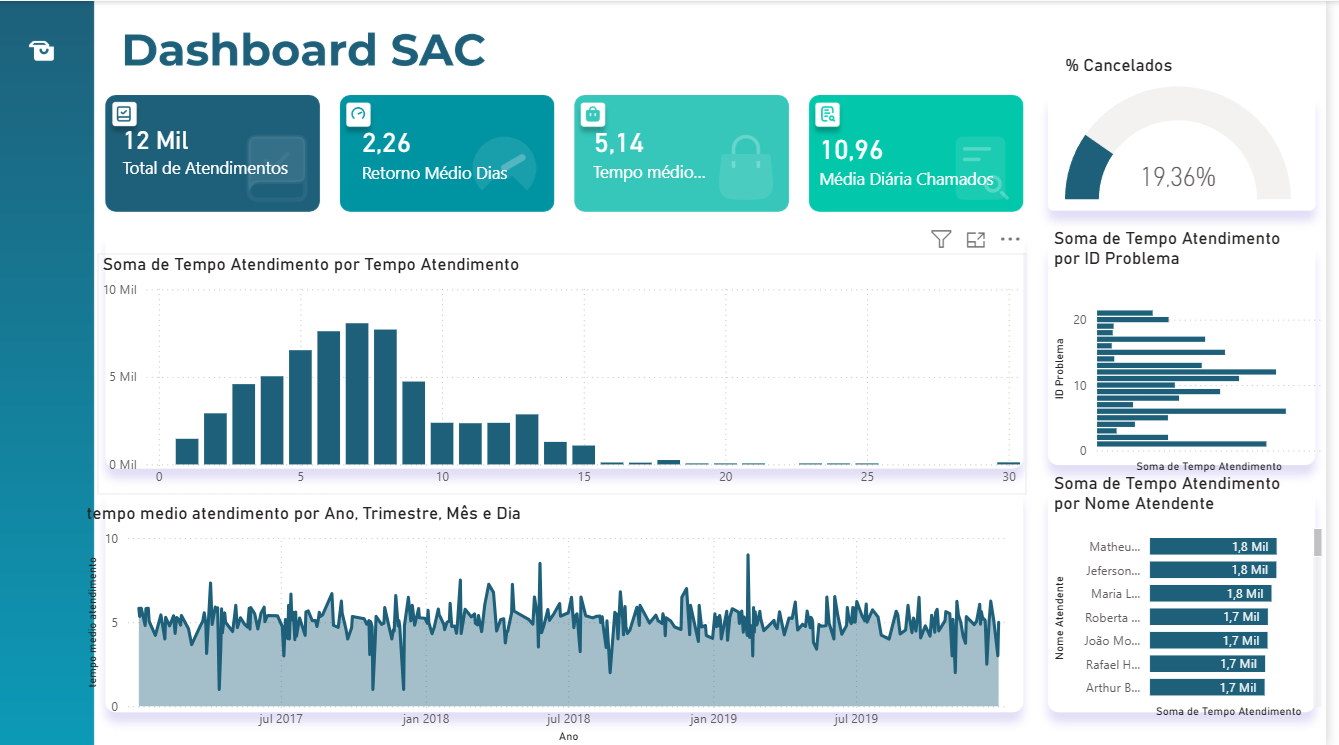

What the dashboard file says about the page in this screenshot:
{"tool":"powerbi","page":{"name":"Página 1","canvas":[1280,720],"ordinal":0},"visuals":[{"type":"cardVisual","fields":{"Data":["fOcorrencias.Total de Atendimentos"]},"box":[89.6,52.4,259.1,188.8],"z":0},{"type":"cardVisual","fields":{"Data":["fOcorrencias.Tempo Médio de Retorno (Dias)"]},"box":[310.1,34.5,318.3,227.4],"z":1000},{"type":"cardVisual","fields":{"Data":["fOcorrencias.Tempo médio Atendimento (Min)"]},"box":[533.3,78.6,246.7,139.2],"z":2000},{"type":"cardVisual","fields":{"Data":["fOcorrencias.Média Diária Chamados"]},"box":[751.1,68.9,315.6,172.3],"z":3000},{"type":"gauge","fields":{"Y":["fOcorrencias.% Cancelados"]},"box":[1023.1,51.9,228,149.6],"z":4000},{"type":"columnChart","fields":{"Y":["Sum(fOcorrencias.Tempo Atendimento)"],"Category":["fOcorrencias.Tempo Atendimento"]},"box":[94.1,243.2,895.9,233.8],"z":5000},{"type":"areaChart","fields":{"Y":["fOcorrencias.tempo medio atendimento"],"Category":["dUsuario.Data de inscrição.Variation.Hierarquia de datas.Ano","dUsuario.Data de inscrição.Variation.Hierarquia de datas.Trimestre","dUsuario.Data de inscrição.Variation.Hierarquia de datas.Mês","dUsuario.Data de inscrição.Variation.Hierarquia de datas.Dia"]},"box":[78.5,483.3,911.6,236.9],"z":6000},{"type":"barChart","fields":{"Y":["Sum(fOcorrencias.Tempo Atendimento)"],"Category":["fOcorrencias.ID Problema"]},"box":[1012,218.1,268.3,241.6],"z":7000},{"type":"barChart","fields":{"Y":["Sum(fOcorrencias.Tempo Atendimento)"],"Category":["dSuporte.Nome Atendente"]},"box":[1012,455,268.3,241.6],"z":8000}]}

Visuals, with their boxes in screenshot pixels (x1, y1, x2, y2), scaled from the page's 1280x720 canvas onto the 1339x745 screenshot:
cardVisual - fOcorrencias.Total de Atendimentos: <region>94, 54, 365, 250</region>
cardVisual - fOcorrencias.Tempo Médio de Retorno (Dias): <region>324, 36, 657, 271</region>
cardVisual - fOcorrencias.Tempo médio Atendimento (Min): <region>558, 81, 816, 225</region>
cardVisual - fOcorrencias.Média Diária Chamados: <region>786, 71, 1116, 250</region>
gauge - fOcorrencias.% Cancelados: <region>1070, 54, 1309, 208</region>
columnChart - Sum(fOcorrencias.Tempo Atendimento) x fOcorrencias.Tempo Atendimento: <region>98, 252, 1036, 494</region>
areaChart - fOcorrencias.tempo medio atendimento x dUsuario.Data de inscrição.Variation.Hierarquia de datas.Ano: <region>82, 500, 1036, 744</region>
barChart - Sum(fOcorrencias.Tempo Atendimento) x fOcorrencias.ID Problema: <region>1059, 226, 1338, 476</region>
barChart - Sum(fOcorrencias.Tempo Atendimento) x dSuporte.Nome Atendente: <region>1059, 471, 1338, 721</region>
